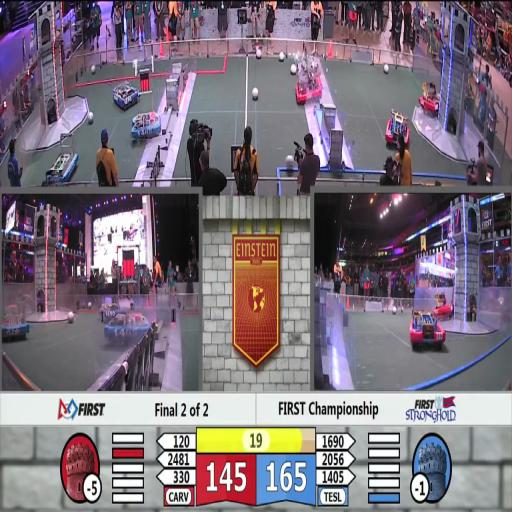robot: (46, 130, 80, 184), (104, 310, 154, 340), (292, 58, 322, 104), (410, 309, 447, 346), (128, 110, 164, 138), (384, 108, 410, 146), (1, 305, 30, 338), (111, 84, 141, 110), (418, 83, 442, 113), (434, 291, 454, 316), (100, 301, 125, 318)
